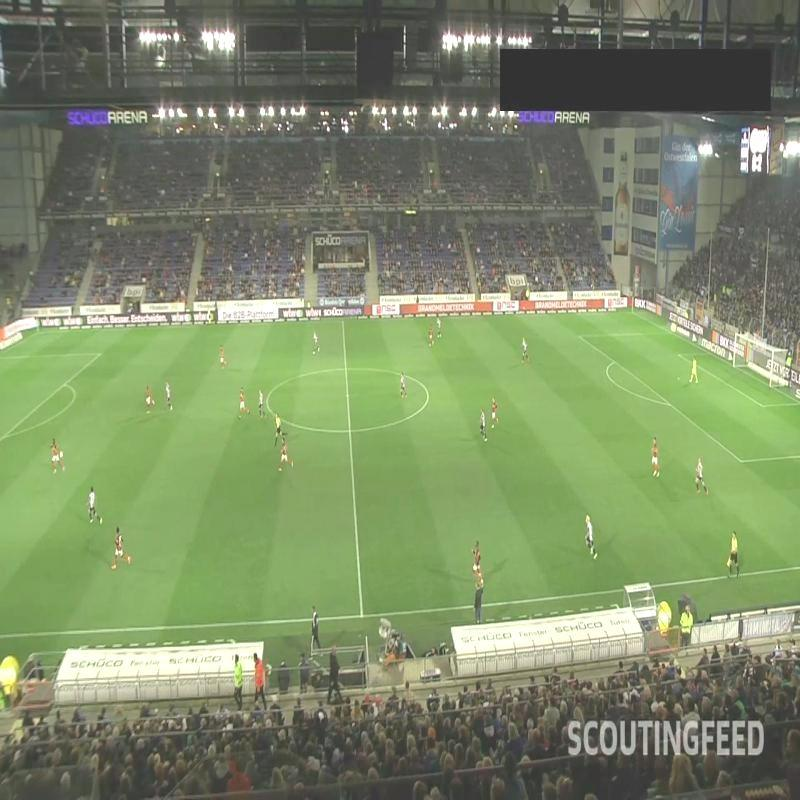1: (31, 326, 45, 340), (626, 308, 639, 316)
10: (607, 356, 621, 370), (60, 378, 70, 392), (574, 331, 585, 343)
11: (662, 397, 678, 412), (0, 431, 8, 441)
12: (734, 454, 748, 468)
13: (336, 314, 350, 328)
14: (339, 362, 353, 376)
15: (342, 425, 356, 439)
16: (352, 606, 372, 624)
2: (662, 327, 680, 340)
3: (699, 344, 713, 358)
7: (671, 347, 685, 361)
8: (754, 398, 768, 412)
9: (94, 348, 108, 362)
c: (420, 389, 434, 403), (261, 395, 273, 409)
